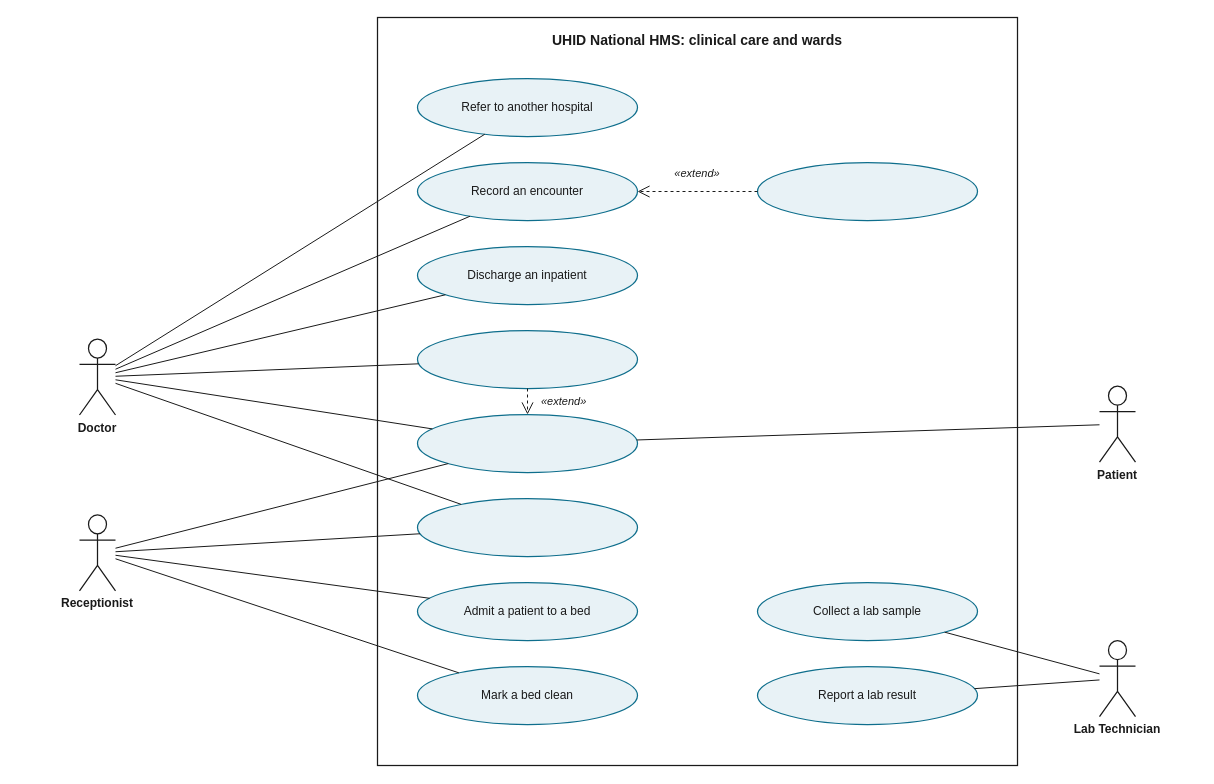
Image size: 1214x784. Some labels were removed from this diagram. The centre of each missing label's shape, as x and y in pixels:
Open a patient record (logged read): pixel 527 443
Record a new allergy: pixel 867 191
Transfer an inpatient: pixel 527 527
Use break-glass access: pixel 527 359
